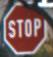Stop sign: (0, 0, 52, 56)
